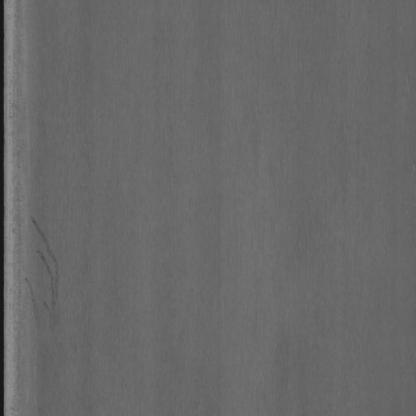water_spot: (23, 206, 65, 334)
